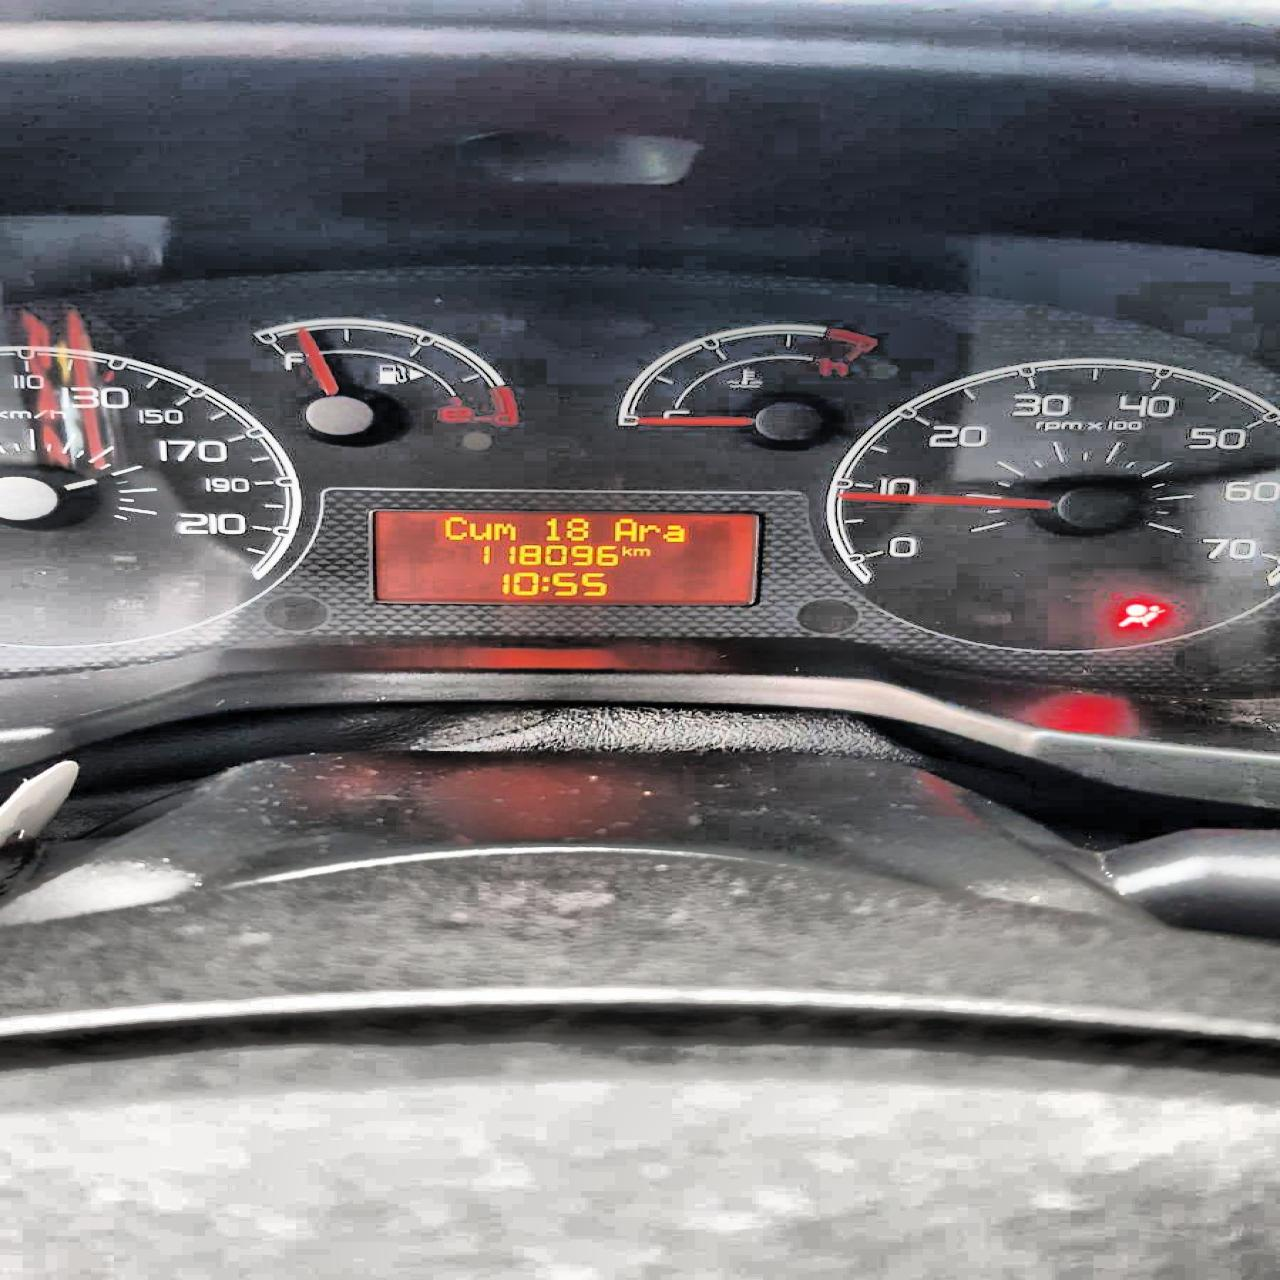0: (511, 571, 538, 595), (544, 543, 568, 566)
1: (539, 516, 561, 542), (474, 543, 493, 564), (493, 572, 511, 595), (502, 544, 516, 565)
5: (550, 570, 579, 597), (579, 571, 607, 597)
6: (594, 543, 618, 566)
8: (516, 543, 543, 566), (563, 517, 590, 540)
9: (568, 543, 592, 566)
X: (442, 515, 469, 540), (612, 516, 635, 542), (491, 520, 517, 542), (467, 520, 491, 540), (661, 524, 686, 543), (636, 523, 660, 542), (632, 546, 651, 557), (539, 574, 550, 592), (620, 544, 633, 557)
odometer: (326, 207, 524, 273)
